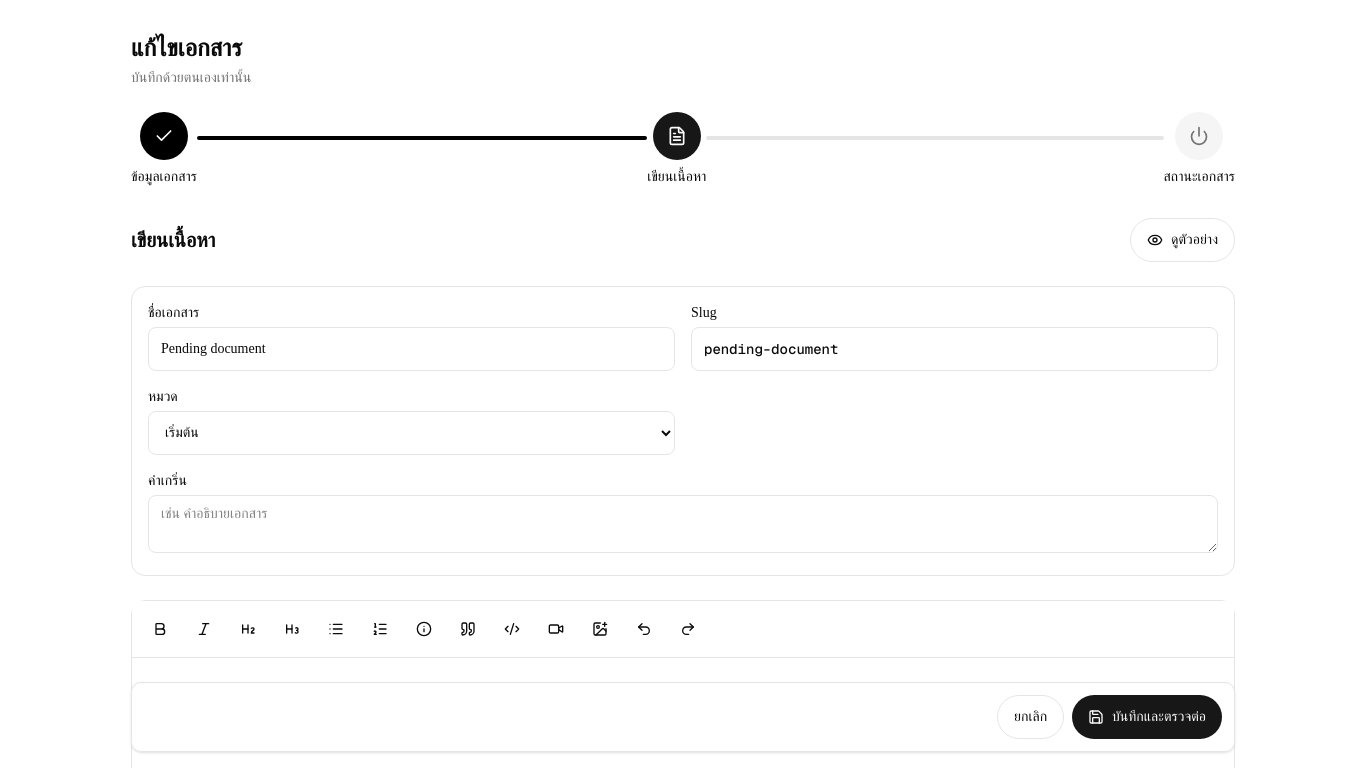
Test: saves content before advancing to review
Click the button "บันทึกและตรวจต่อ". click: (1147, 717)
box: x1=1072 y1=695 x2=1222 y2=739
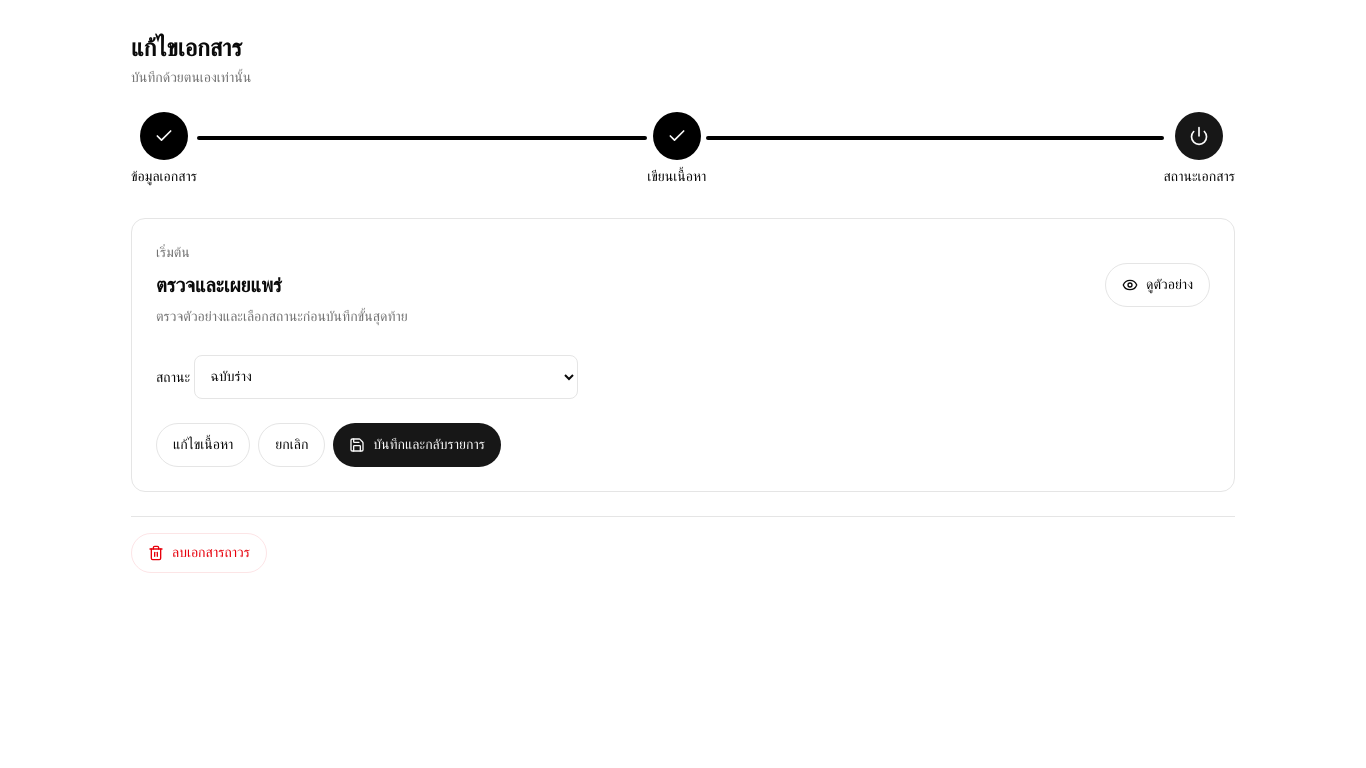
Result: the heading "ตรวจและเผยแพร่" is shown at x1=156 y1=274 x2=282 y2=296
